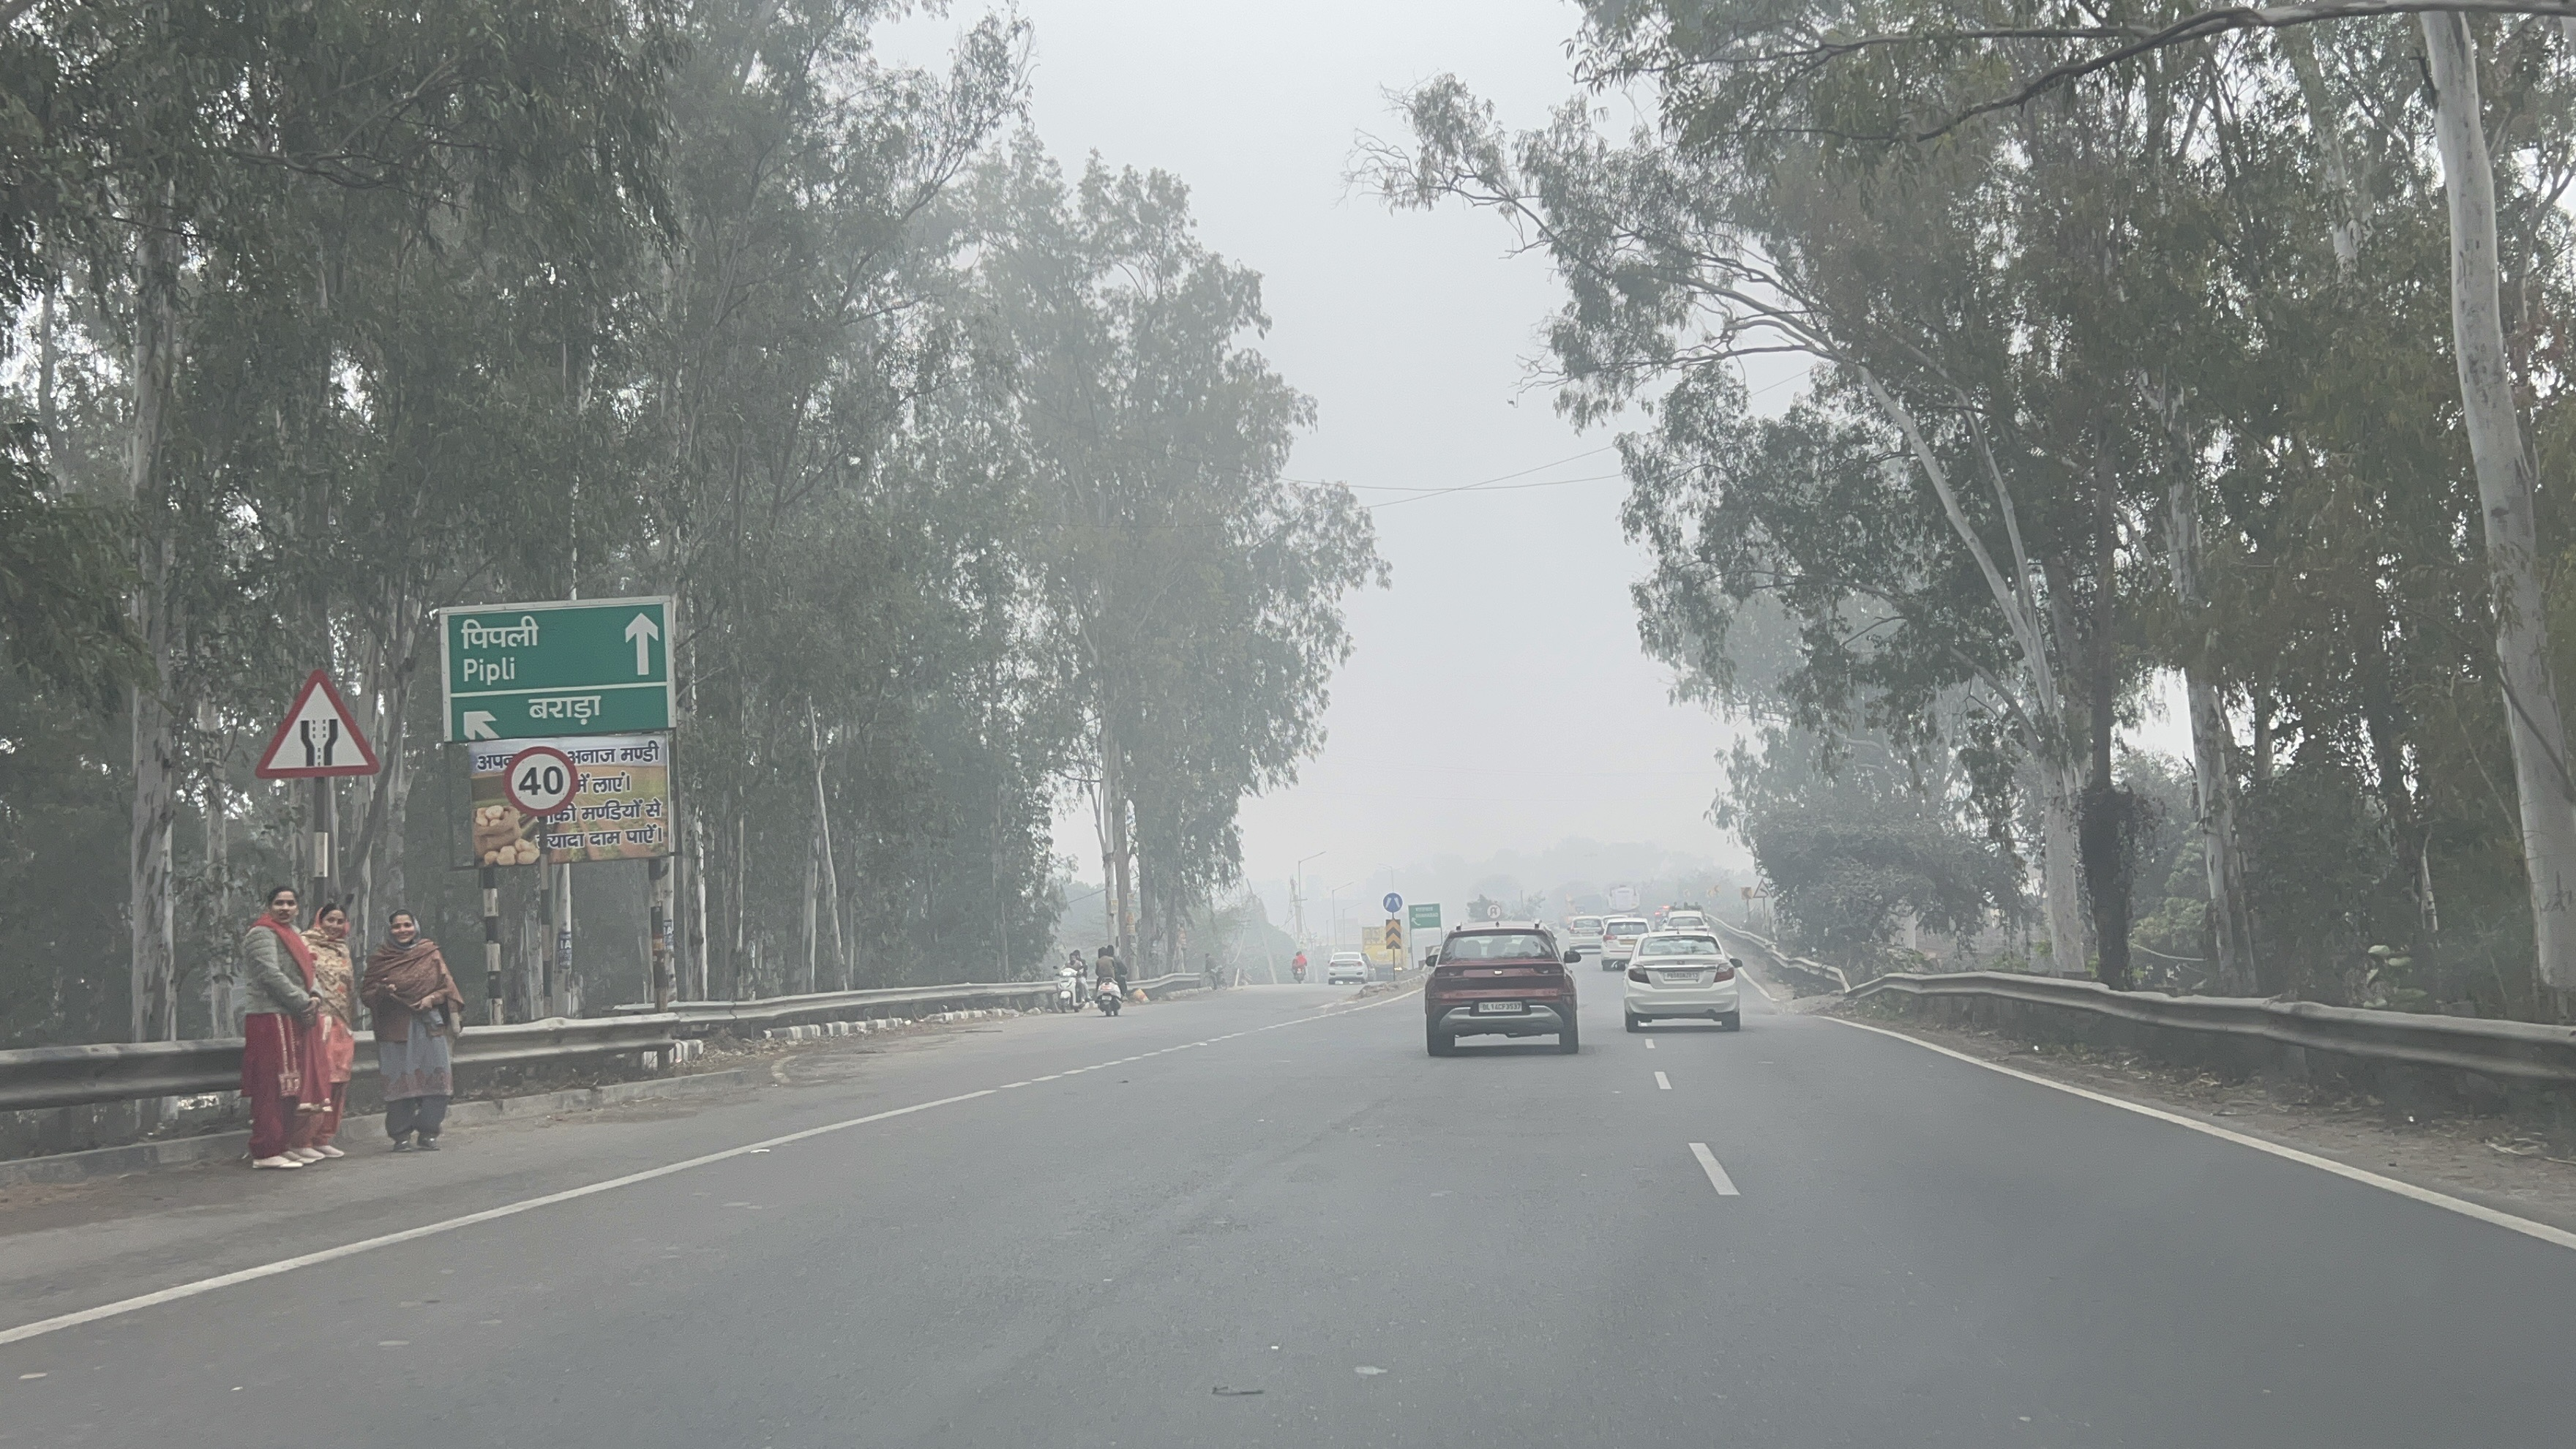Informatory: (428, 603, 681, 755)
Mandatory: (499, 743, 587, 824)
Regulatory: (1373, 888, 1410, 918)
Warning: (244, 658, 396, 791)
